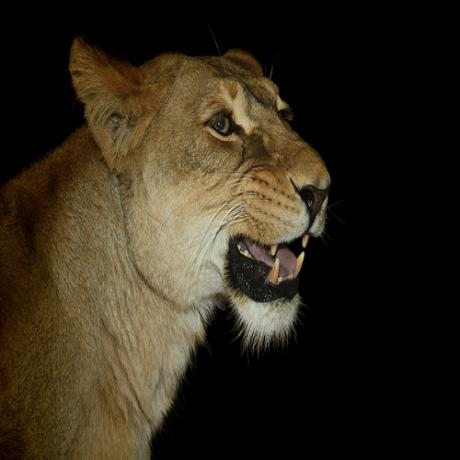Lion: (0, 37, 335, 460)
